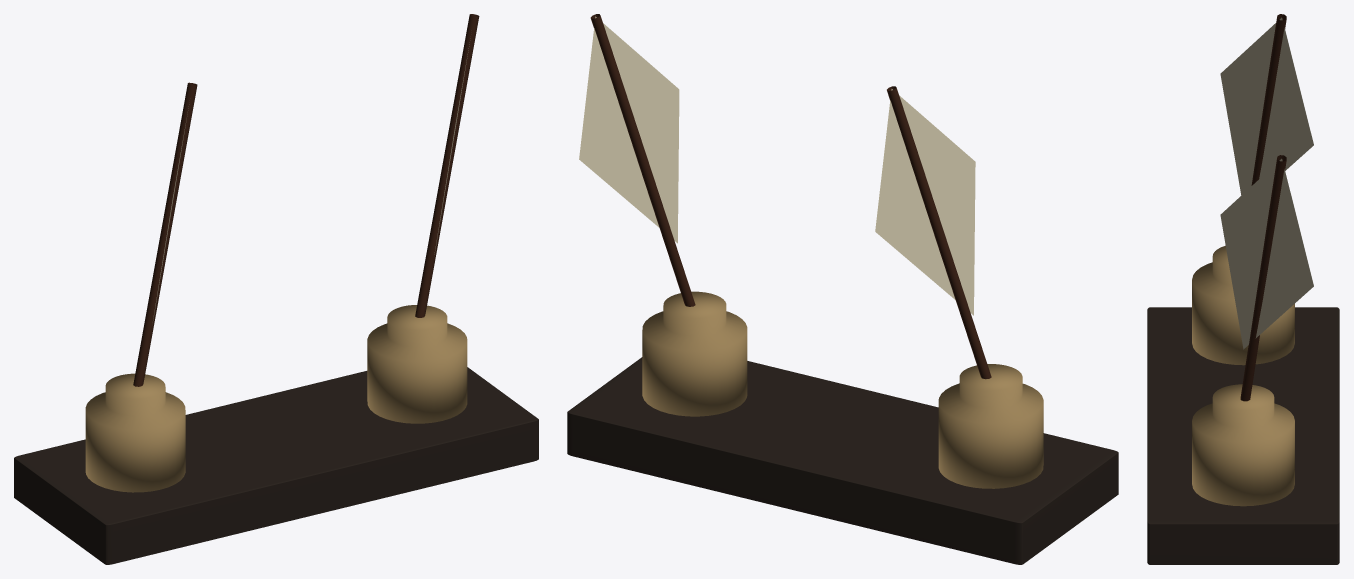
The model's file is Writing_Set.fbx.
The picture shows the model from 3 angles, left to right: view 1: azimuth 30°, elevation 25°; view 2: azimuth 150°, elevation 25°; view 3: azimuth 270°, elevation 25°; orthographic projection. The views are drawn at different scales.
Visible parts, largest first — view 1: Pen tray.001, Ink well.002, Ink well.003, Quill shaft.002, Quill shaft.003; view 2: Pen tray.001, Quill feather.002, Quill feather.003, Ink well.003, Ink well.002, Quill shaft.003, Quill shaft.002; view 3: Pen tray.001, Ink well.003, Quill feather.003, Quill feather.002, Ink well.002, Quill shaft.003, Quill shaft.002.
Part boxes in pixels (x1,y1,x2,y2): Pen tray.001: (14, 367, 538, 564); Ink well.002: (85, 373, 185, 492); Ink well.003: (367, 305, 467, 423); Quill shaft.002: (133, 82, 197, 386); Quill shaft.003: (415, 14, 479, 317); Pen tray.001: (567, 357, 1118, 564); Quill feather.002: (875, 89, 975, 315); Quill feather.003: (579, 16, 679, 243); Ink well.003: (642, 291, 747, 416); Ink well.002: (938, 364, 1043, 488); Quill shaft.003: (590, 14, 695, 306); Quill shaft.002: (887, 86, 991, 379); Pen tray.001: (1147, 307, 1339, 564); Ink well.003: (1192, 384, 1294, 506); Quill feather.003: (1220, 158, 1313, 349); Quill feather.002: (1220, 17, 1313, 195); Ink well.002: (1192, 245, 1294, 365); Quill shaft.003: (1240, 155, 1286, 401); Quill shaft.002: (1251, 14, 1286, 185).
Bounding box in the file's own units: 0.4036 × 0.3512 × 0.15.
